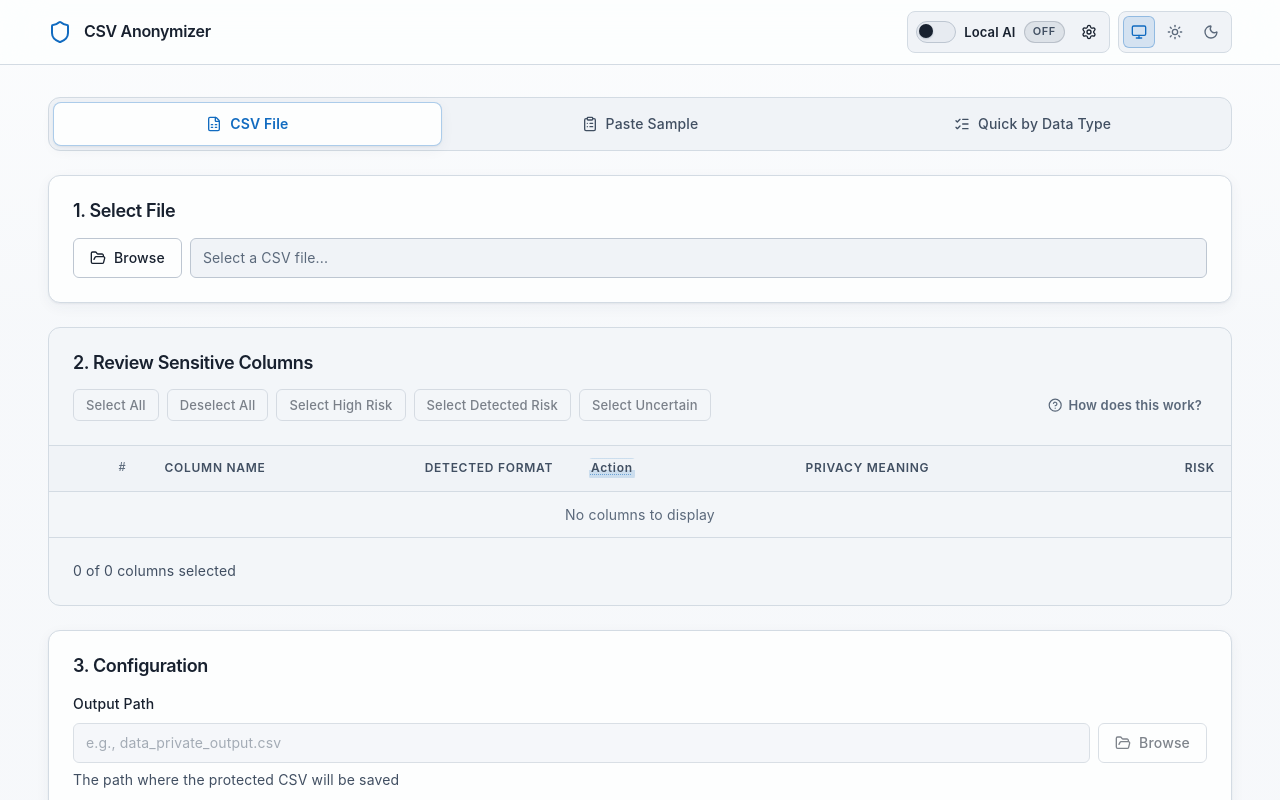
Scenario: App input mode tabs › shows Local AI setup for quick Smart replacement generation
This screenshot has width=1280, height=800.
Step 1. Click the tab "Quick by Data Type" → click(1033, 124), box [838,102,1227,146]
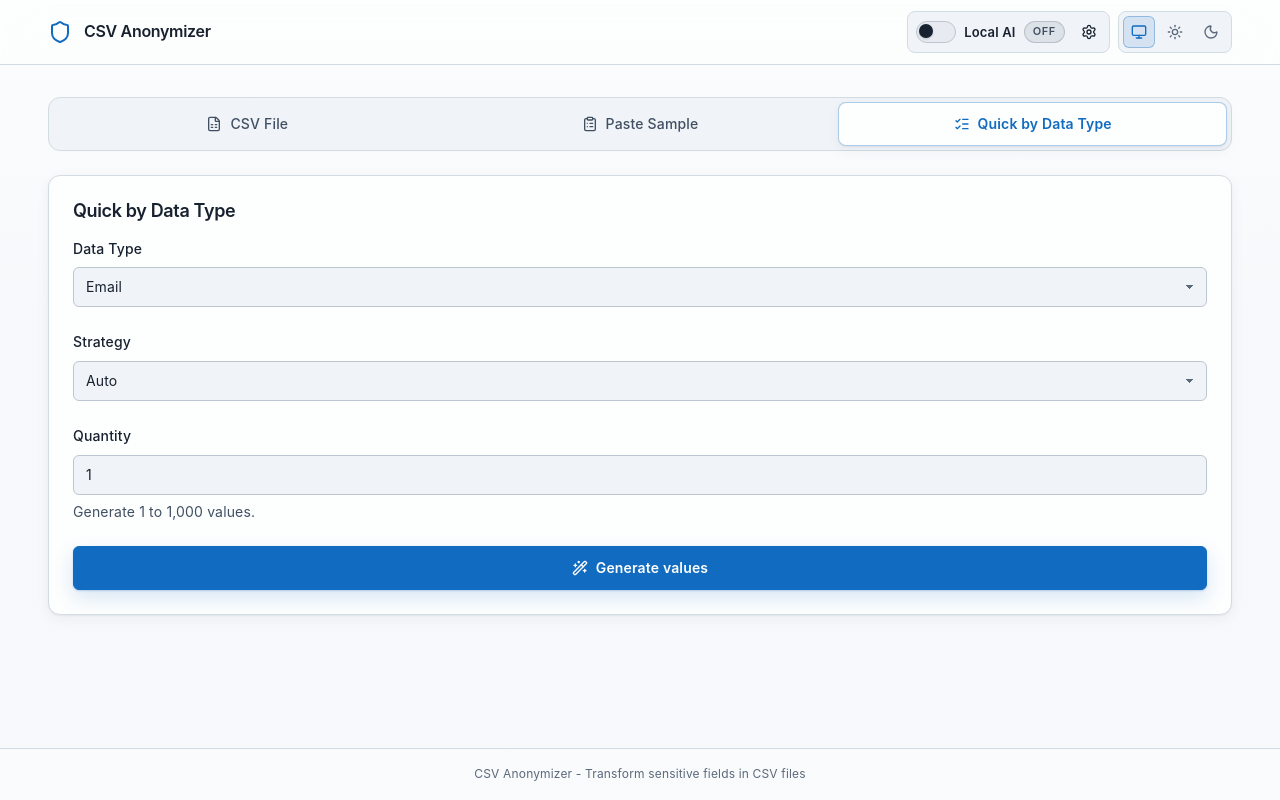
Step 2. Select "Smart replacement (Local AI)" in the dropdown labelled "Strategy" → (640, 381), box [73,361,1207,401]
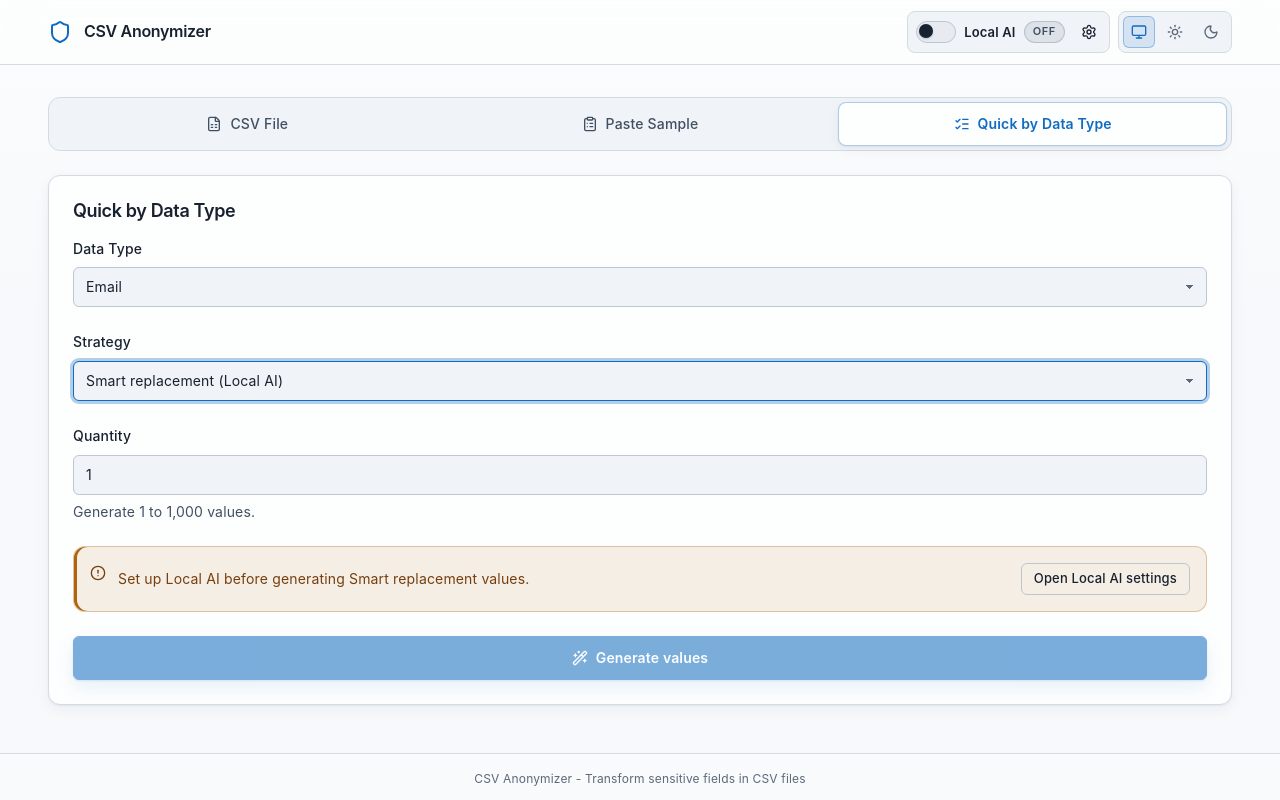
expect the message shows "Set up Local AI before generating Smart replacement values": met, box [118,570,529,587]
expect the button "Open Local AI settings" is shown: met
Step 3. Click the button "Open Local AI settings" → click(1105, 578), box [1021,562,1190,594]
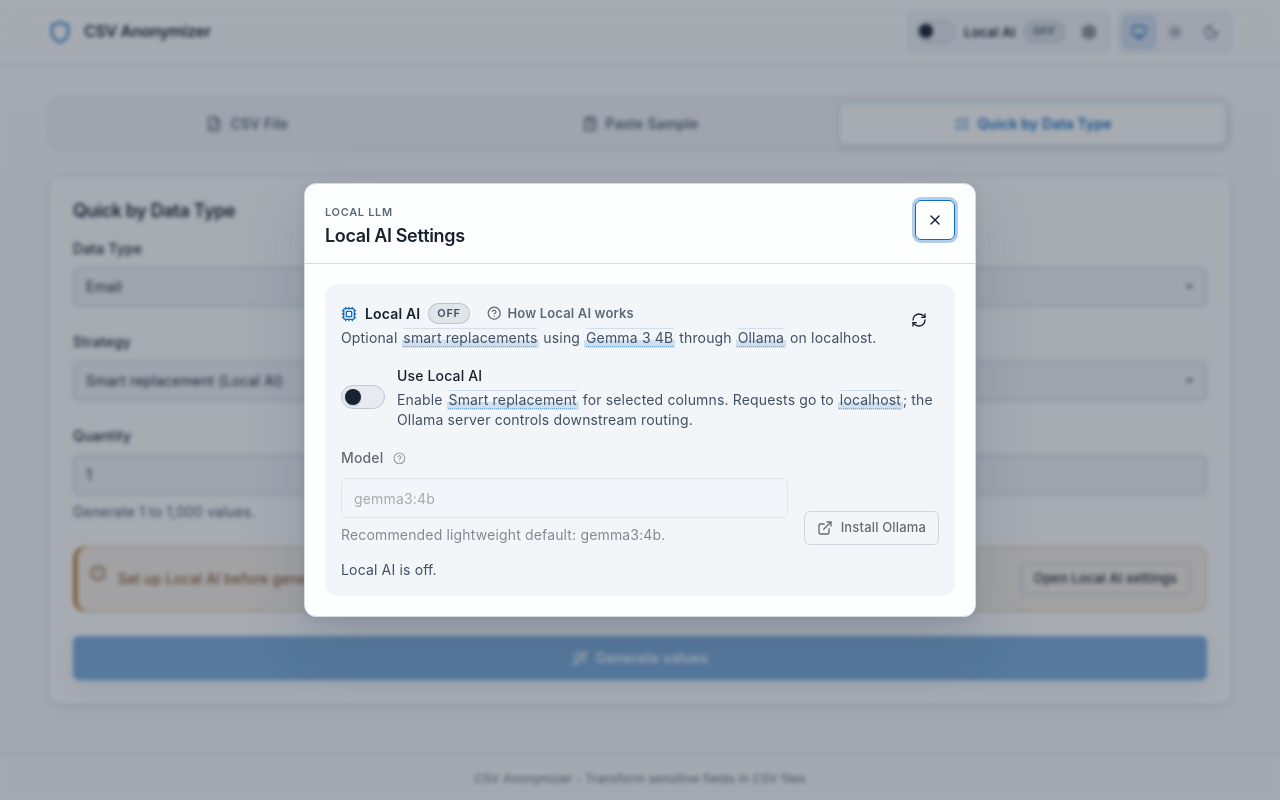
expect the button "Generate values" is disabled: met, box [73,636,1207,680]
expect the dialog "Local AI Settings" is shown: met, box [304,183,976,617]
